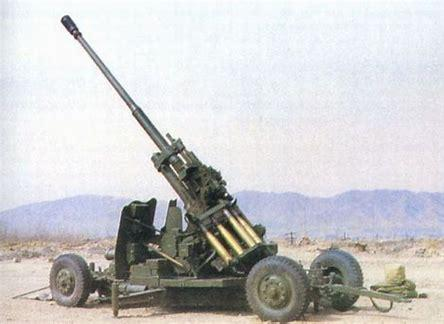MIL_SPG: (49, 16, 368, 321)
